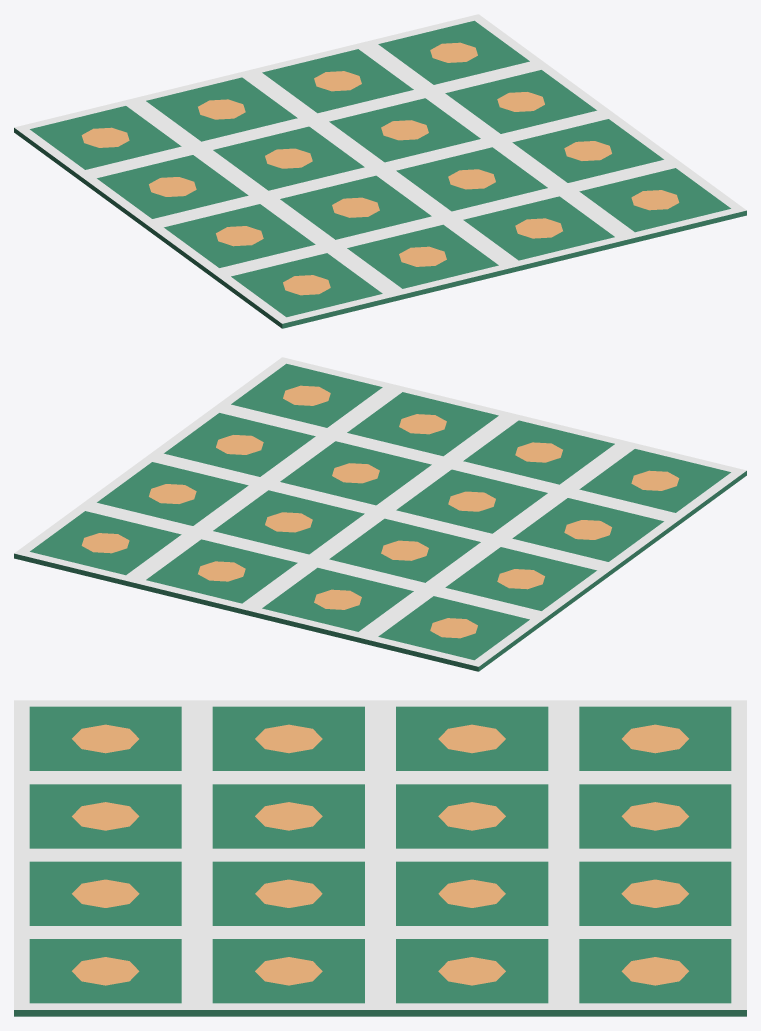
File: Ground_28.fbx
The picture shows the model from 3 angles, top to bottom: view 1: azimuth 30°, elevation 25°; view 2: azimuth 150°, elevation 25°; view 3: azimuth 270°, elevation 25°; orthographic projection. The views are drawn at different scales.
Parts seen in each view (by area): view 1: Ground_28; view 2: Ground_28; view 3: Ground_28.
Boxes of the visible parts, x1,y1,x2,y2 form: Ground_28: [14, 14, 746, 328]; Ground_28: [14, 357, 746, 671]; Ground_28: [14, 700, 746, 1016].
Bounding box in the file's own units: 3.61 × 0.0368 × 3.61.
